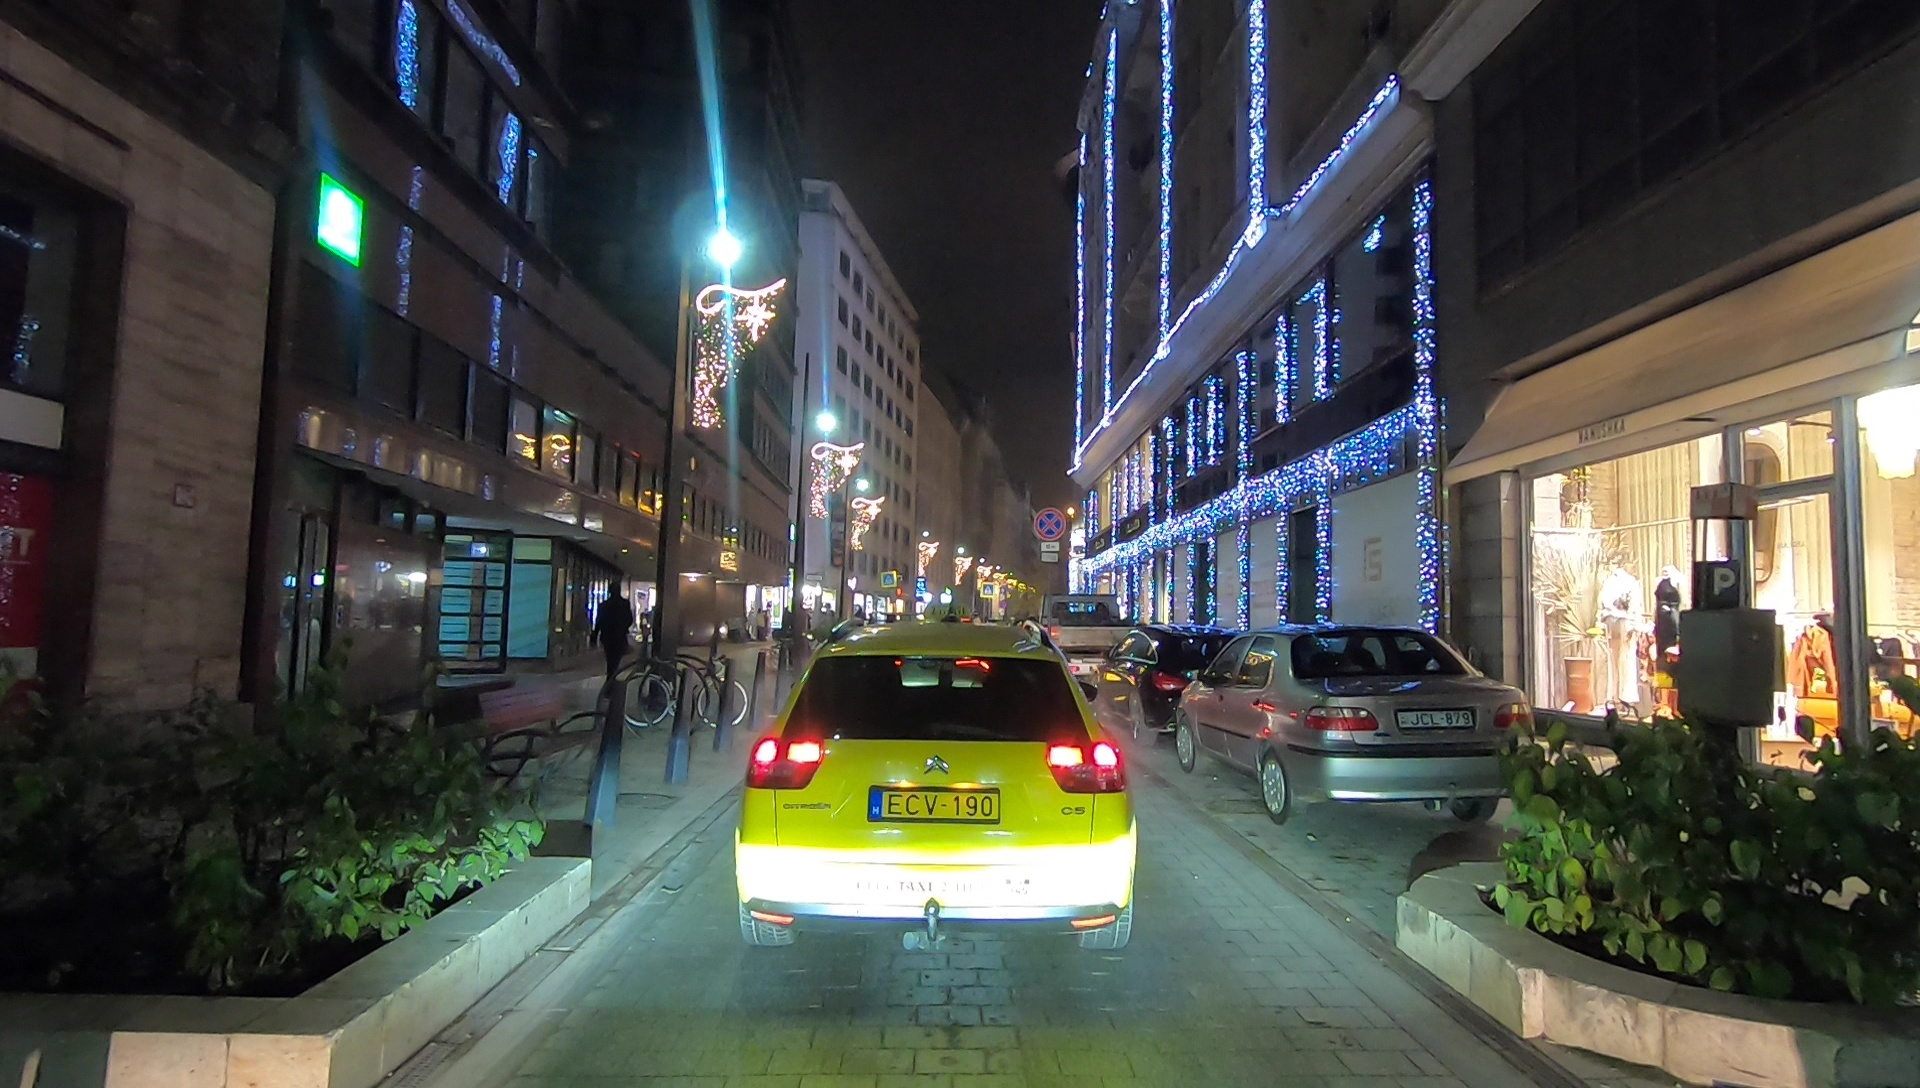person: (593, 580, 632, 693)
